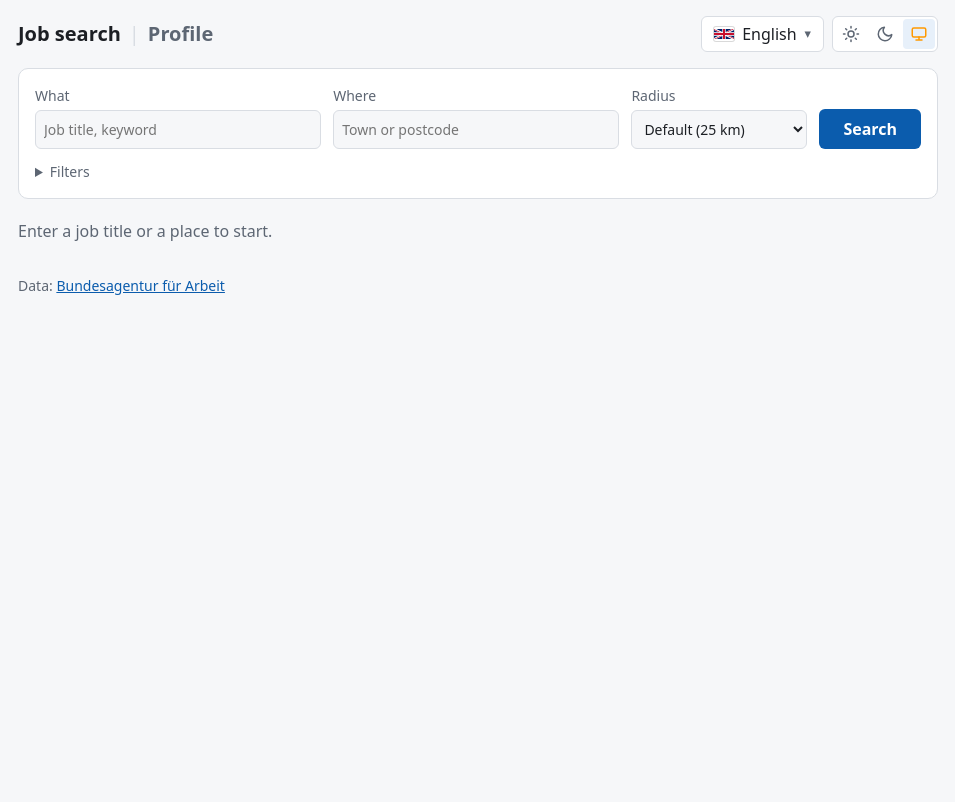
Test: profile page › is reachable from the header
Click the link "Profile" at (180, 34), box [148, 19, 213, 49]
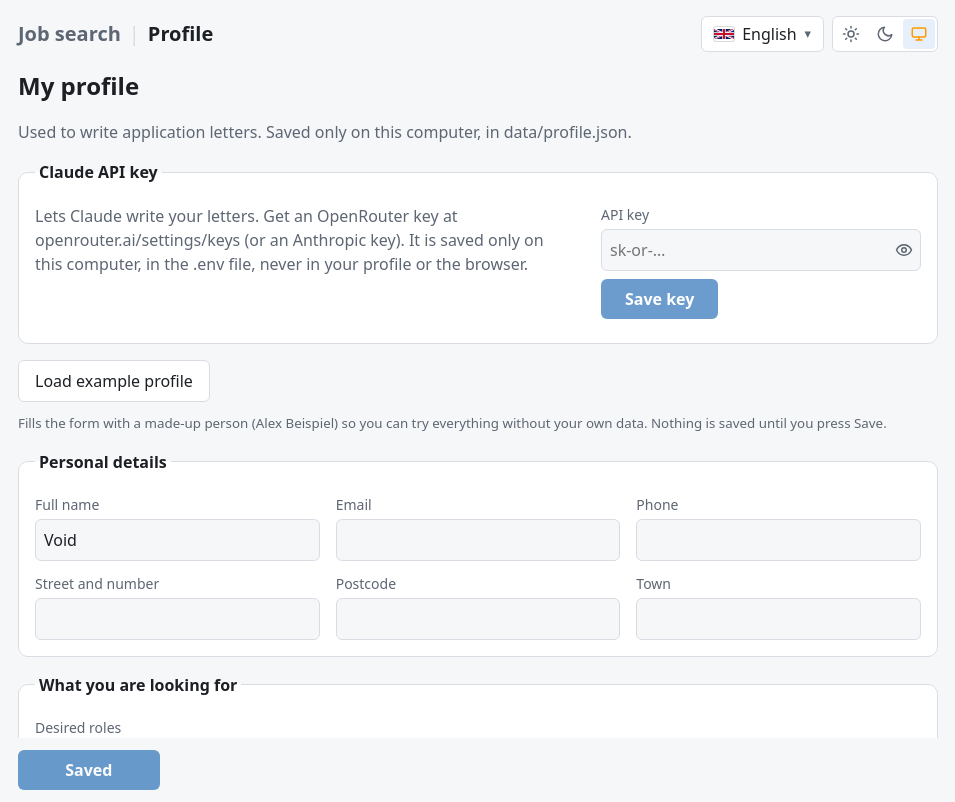
expect the navigation bar named "Main navigation" reads "Job search | Profile": met, box [18, 19, 121, 49]
expect the field labelled "Full name" is shown: met, box [35, 519, 320, 561]
